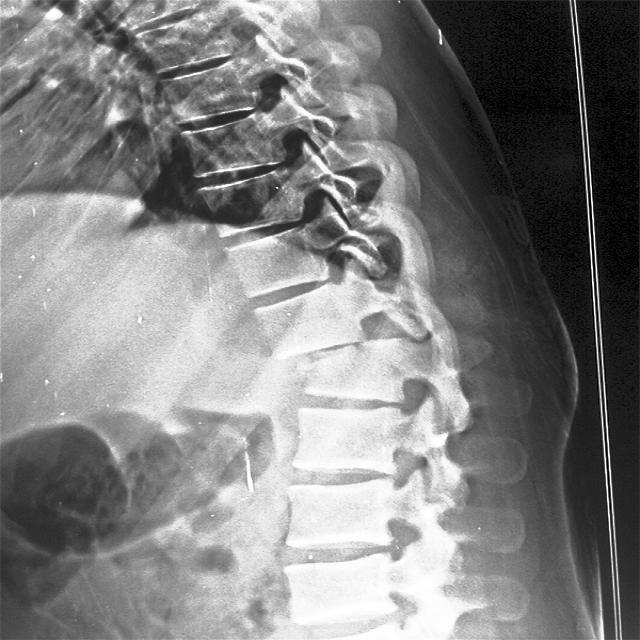Fracture Dislocation: (281, 334, 464, 404)
